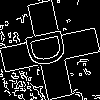D: (25, 25, 77, 70)
